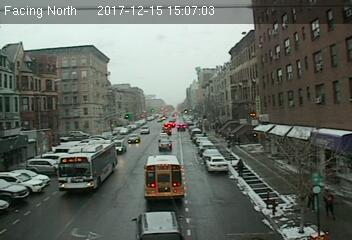bus: (56, 142, 119, 193)
car: (131, 210, 186, 239), (205, 156, 229, 172), (126, 134, 141, 144), (158, 138, 171, 148), (177, 123, 186, 131)
pedestrian: (323, 188, 336, 221), (236, 158, 243, 179)
truck: (144, 154, 186, 198)
